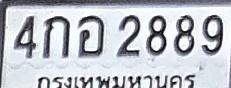2: (117, 14, 140, 56)
4: (14, 15, 36, 58)
8: (173, 14, 194, 55), (146, 14, 166, 56)
9: (202, 14, 222, 55)
A01: (42, 15, 70, 58)
A43: (77, 15, 104, 57)
